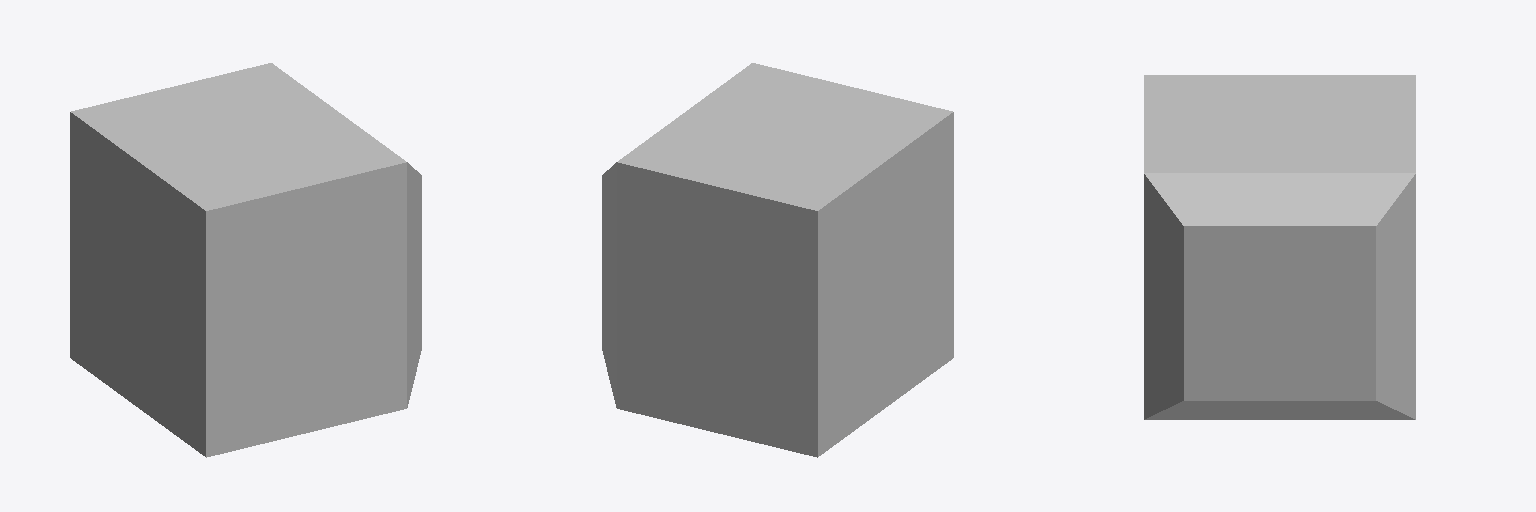
File: Keypad Key.obj
The picture shows the model from 3 angles: view 1: azimuth 30°, elevation 25°; view 2: azimuth 150°, elevation 25°; view 3: azimuth 270°, elevation 25°; orthographic projection.
Visible parts, largest first — view 1: Cube.001; view 2: Cube.001; view 3: Cube.001.
Boxes of the visible parts, x1=… form: Cube.001: x1=70, y1=63, x2=421, y2=457; Cube.001: x1=602, y1=63, x2=953, y2=457; Cube.001: x1=1144, y1=75, x2=1415, y2=419.
Bounding box in the file's own units: 0.6998 × 0.6998 × 0.6998.